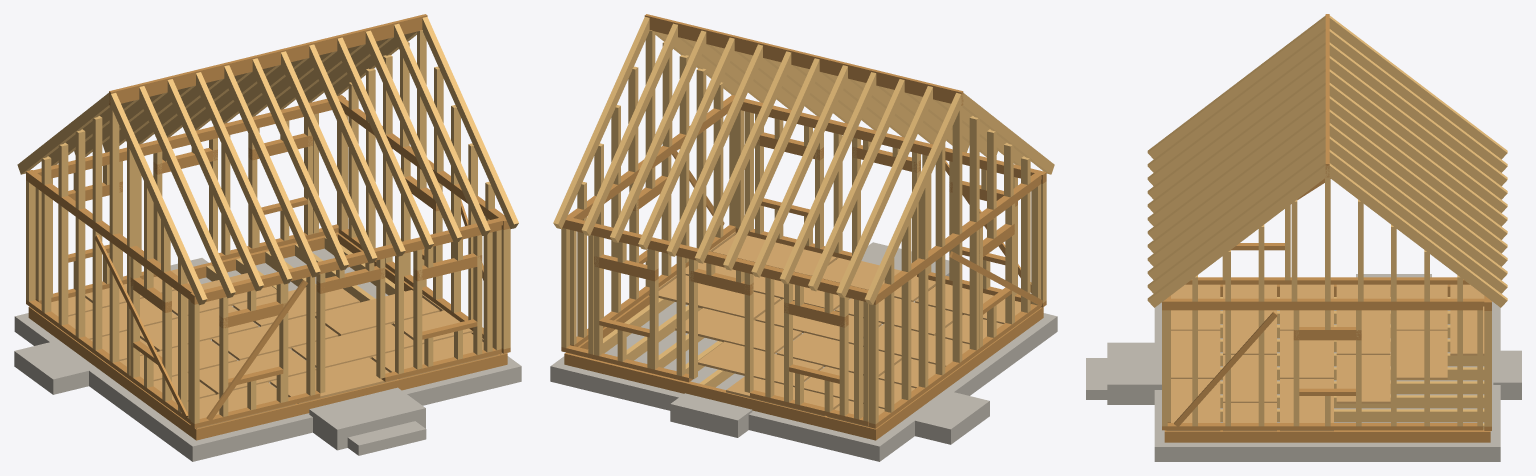
File: base-01-framing.glb
3 renders of one model, left to right at view 1: azimuth 30°, elevation 25°; view 2: azimuth 150°, elevation 25°; view 3: azimuth 270°, elevation 25°, orthographic. The views are drawn at different scales.
Parts seen in each view (by area): view 1: base_house_1_framing; view 2: base_house_1_framing; view 3: base_house_1_framing.
Boxes of the visible parts, x1=… form: base_house_1_framing: x1=14, y1=14, x2=521, y2=461; base_house_1_framing: x1=550, y1=14, x2=1057, y2=461; base_house_1_framing: x1=1086, y1=14, x2=1521, y2=461.
Bounding box in the file's own units: 8.65 × 6.87 × 9.2.
